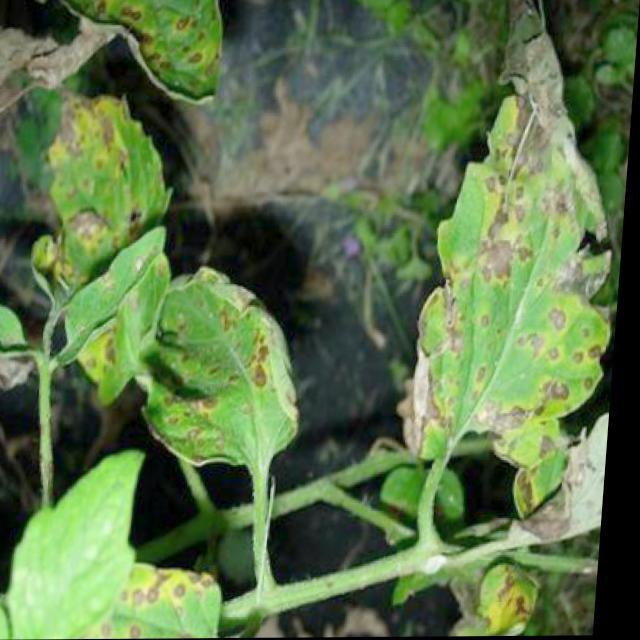Tomato Septoria spot leaf: (394, 31, 636, 496), (12, 45, 172, 408), (143, 260, 329, 490), (50, 0, 259, 140)
